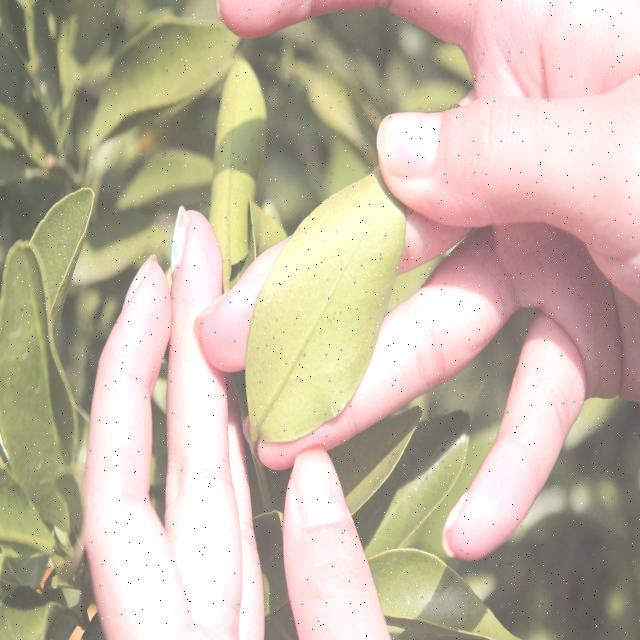melanose: (251, 200, 390, 412)
